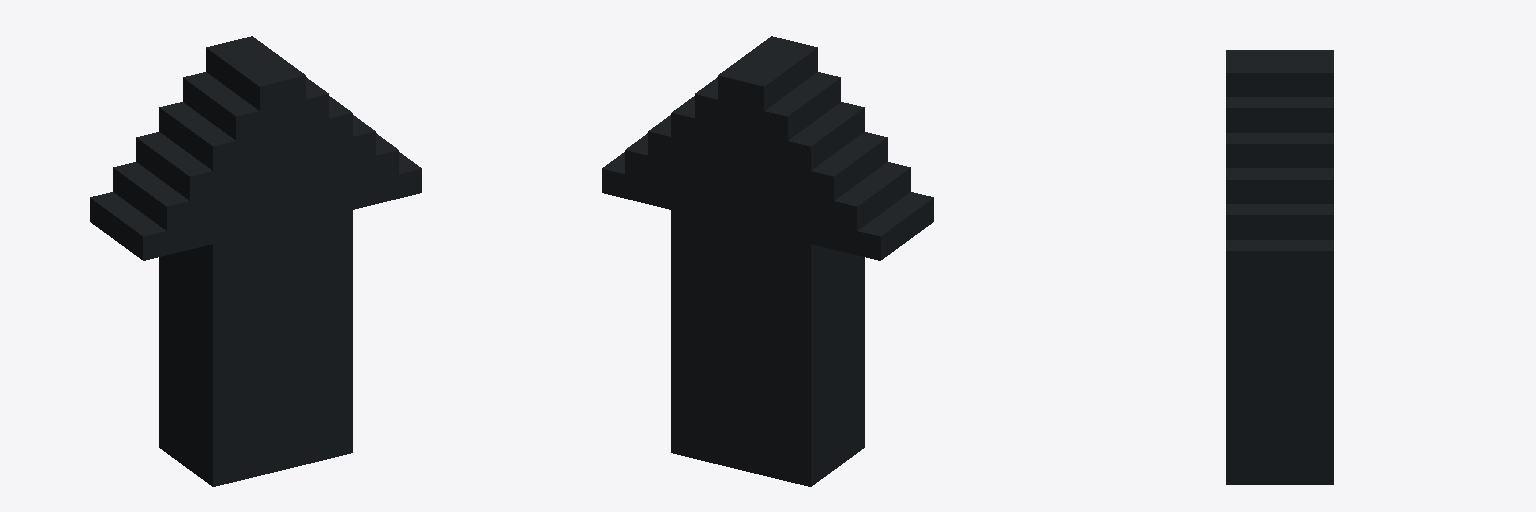
File: Arrow.obj
3 views of the same model, side by side, from view 1: azimuth 30°, elevation 25°; view 2: azimuth 150°, elevation 25°; view 3: azimuth 270°, elevation 25° (orthographic).
Size of the model in its own units: 12 by 16 by 4.